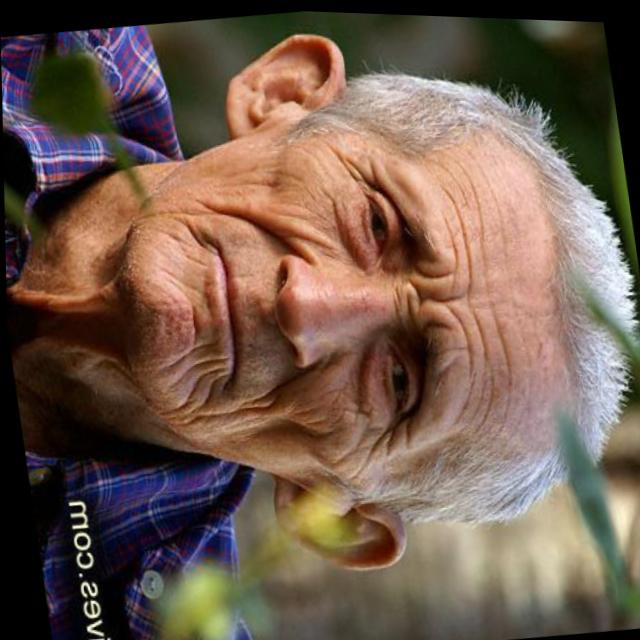Wrinkles: (405, 180, 492, 431), (462, 145, 531, 439), (450, 153, 510, 439), (344, 415, 412, 476), (162, 354, 225, 418), (411, 205, 458, 288), (167, 394, 279, 425), (447, 303, 473, 421), (318, 423, 375, 463), (156, 265, 208, 306), (328, 143, 380, 183), (134, 197, 225, 217), (168, 214, 213, 252), (161, 339, 216, 369), (221, 177, 280, 186)
